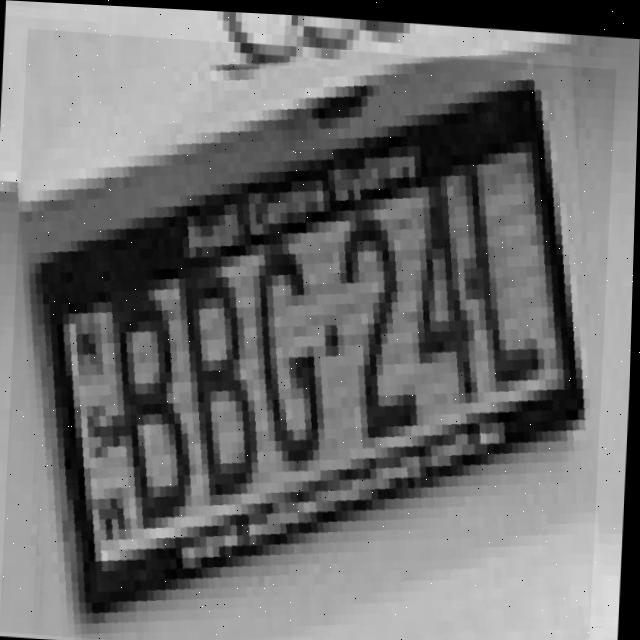LicensePlate: (2, 28, 616, 640)
